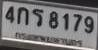letters: (17, 6, 29, 26), (32, 9, 43, 27), (49, 11, 59, 29), (5, 6, 15, 23), (84, 16, 94, 33), (73, 14, 82, 31), (63, 13, 69, 30)
province: (15, 32, 82, 47)
